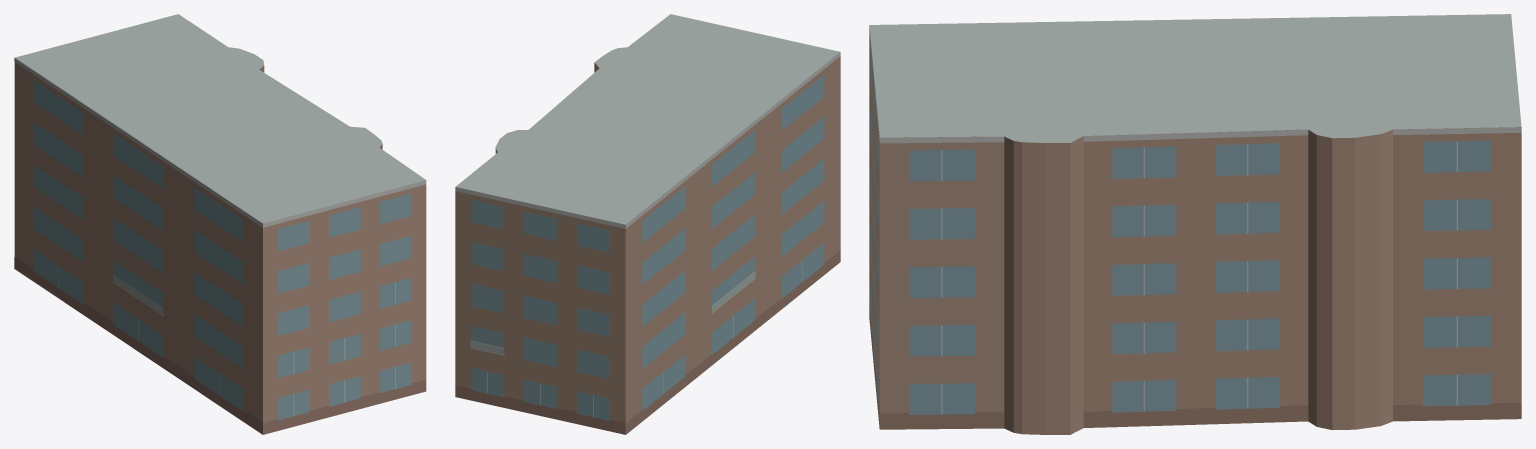
The model's file is survey-upis-32706862.glb.
3 views of the same model, side by side, from view 1: azimuth 30°, elevation 25°; view 2: azimuth 150°, elevation 25°; view 3: azimuth 270°, elevation 25° (orthographic). The views are drawn at different scales.
Parts seen in each view (by area): view 1: survey-upis-32706862.tmp; view 2: survey-upis-32706862.tmp; view 3: survey-upis-32706862.tmp.
Boxes of the visible parts, x1,y1,x2,y2 form: survey-upis-32706862.tmp: (14,14,426,434); survey-upis-32706862.tmp: (455,14,840,434); survey-upis-32706862.tmp: (869,14,1521,434).
Size of the model in its own units: 11.75 by 12.4 by 25.12.
